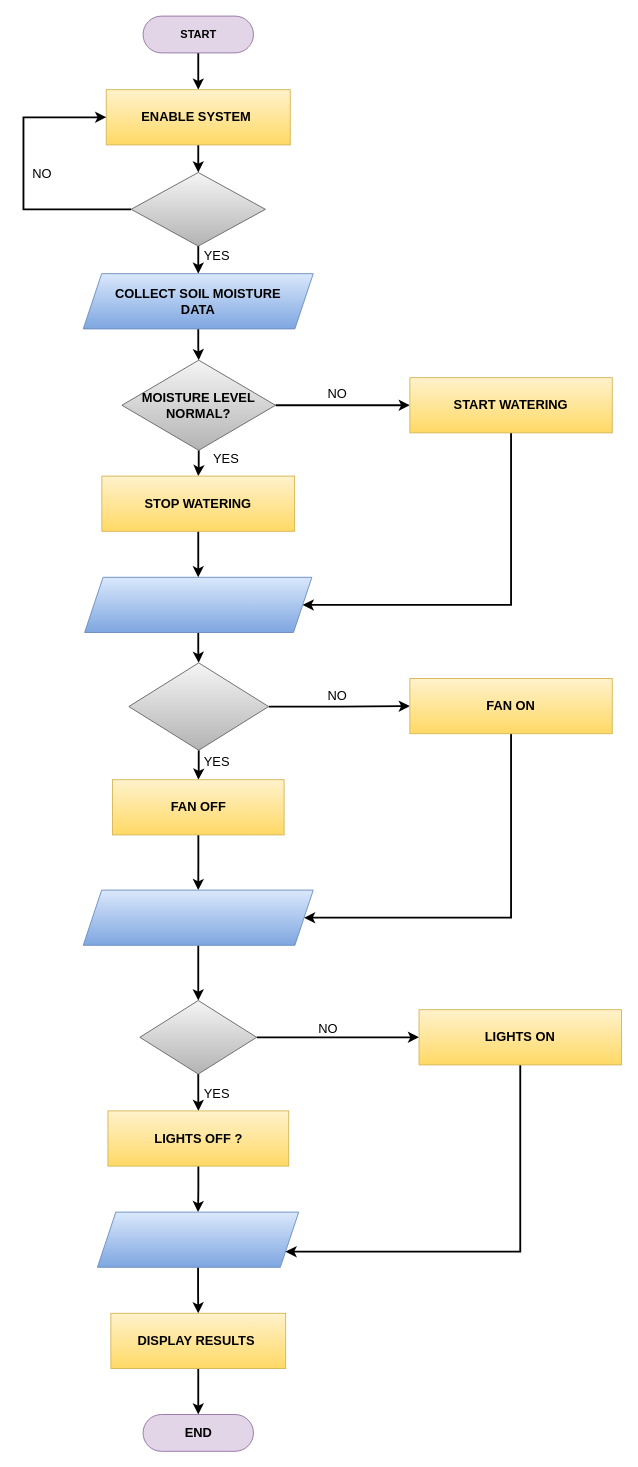
This 638x1467 diagram has some shape labels left out. Each missing label, with the centre of its shape:
"COLLECT LDR DATA" belongs at point (197, 917).
"COLLECT TEMPRETURE DATA" belongs at point (198, 604).
"DAY ?" belongs at point (198, 1037).
"INTIALIZE RESULTS LCD" belongs at point (198, 1239).
"SYSTEM ON ?" belongs at point (197, 209).
"TEMPRETURE NORMAL ?" belongs at point (198, 706).
